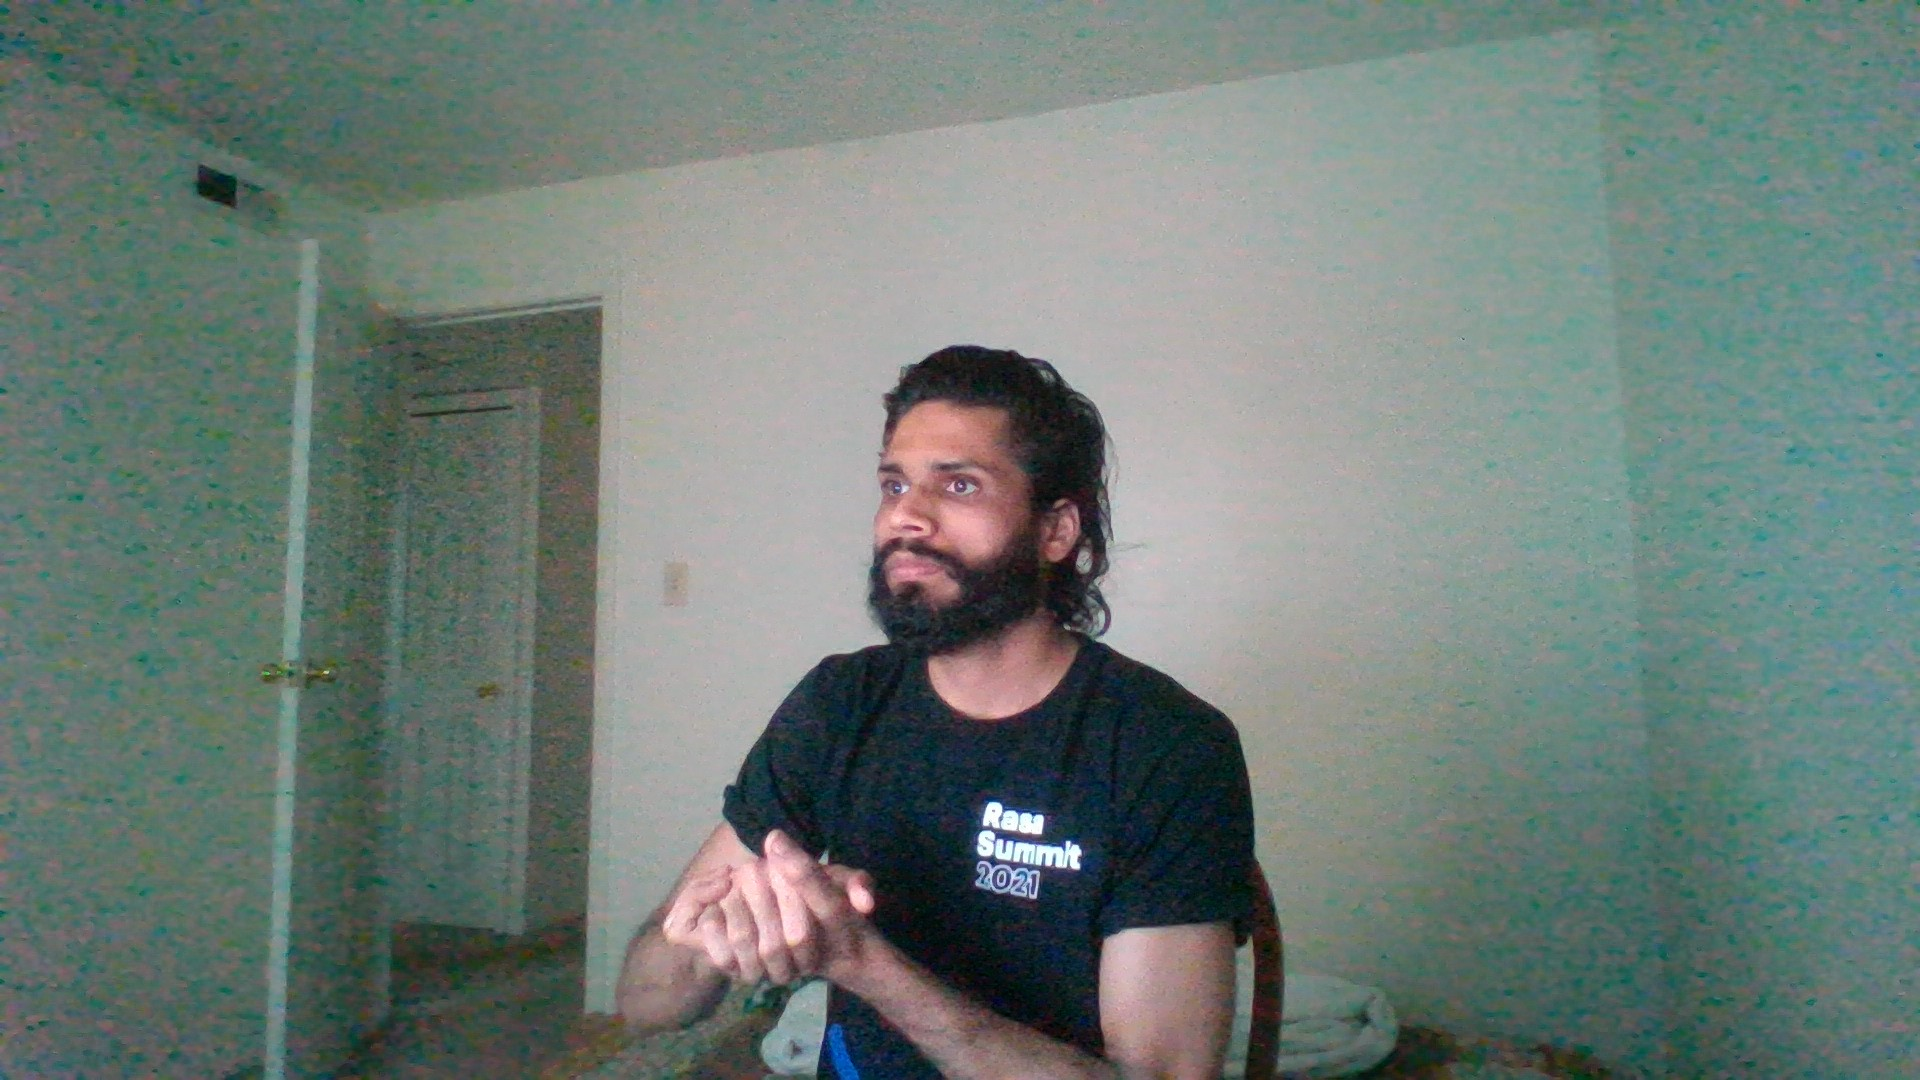Marriage: (665, 810, 913, 1015)
